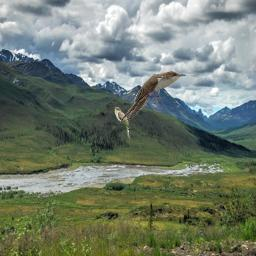Cuckoo: (121, 71, 186, 120), (112, 106, 131, 141)
